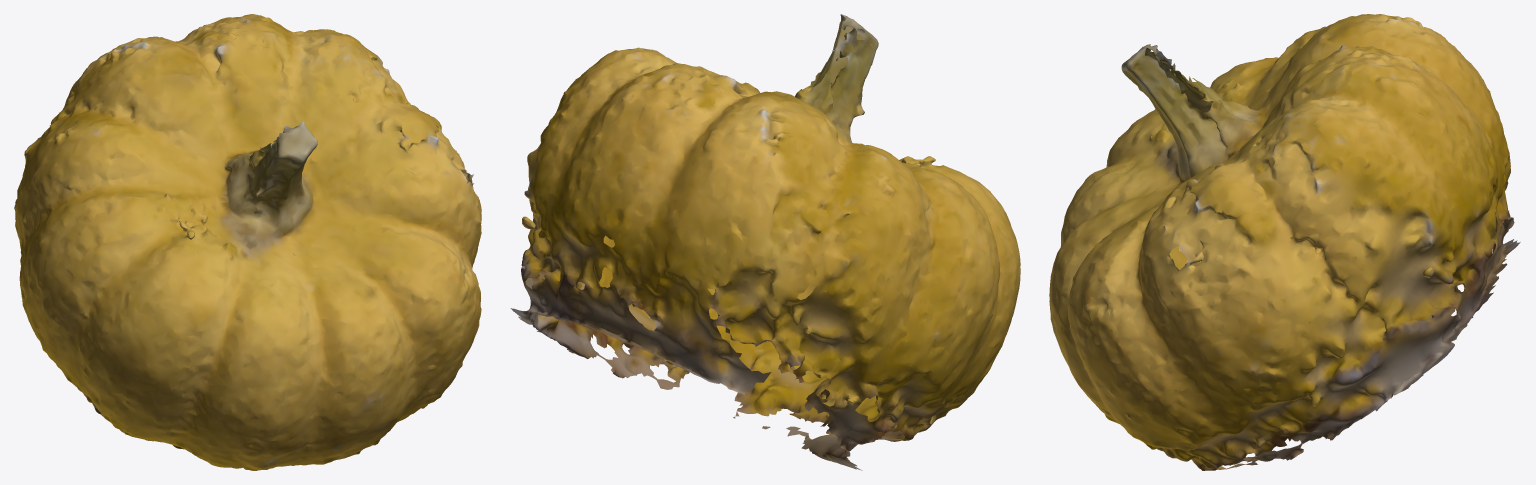
The model's file is pumpkin_4e4e3474.glb.
The picture shows the model from 3 angles, left to right: view 1: azimuth 30°, elevation 25°; view 2: azimuth 150°, elevation 25°; view 3: azimuth 270°, elevation 25°; orthographic projection. The views are drawn at different scales.
Parts seen in each view (by area): view 1: Object_2; view 2: Object_2; view 3: Object_2.
Boxes of the visible parts, x1,y1,x2,y2 form: Object_2: [14, 14, 481, 470]; Object_2: [510, 14, 1020, 470]; Object_2: [1049, 14, 1520, 470].
Size of the model in its own units: 3.49 by 2.98 by 3.24.
